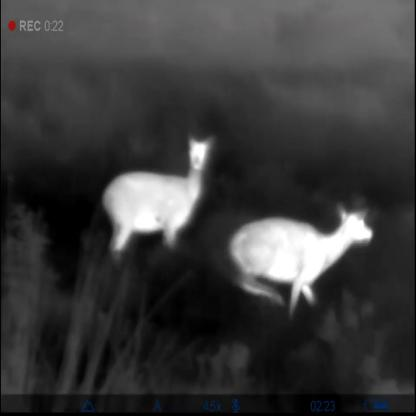rehkitze: (228, 197, 377, 321), (101, 135, 208, 264)
